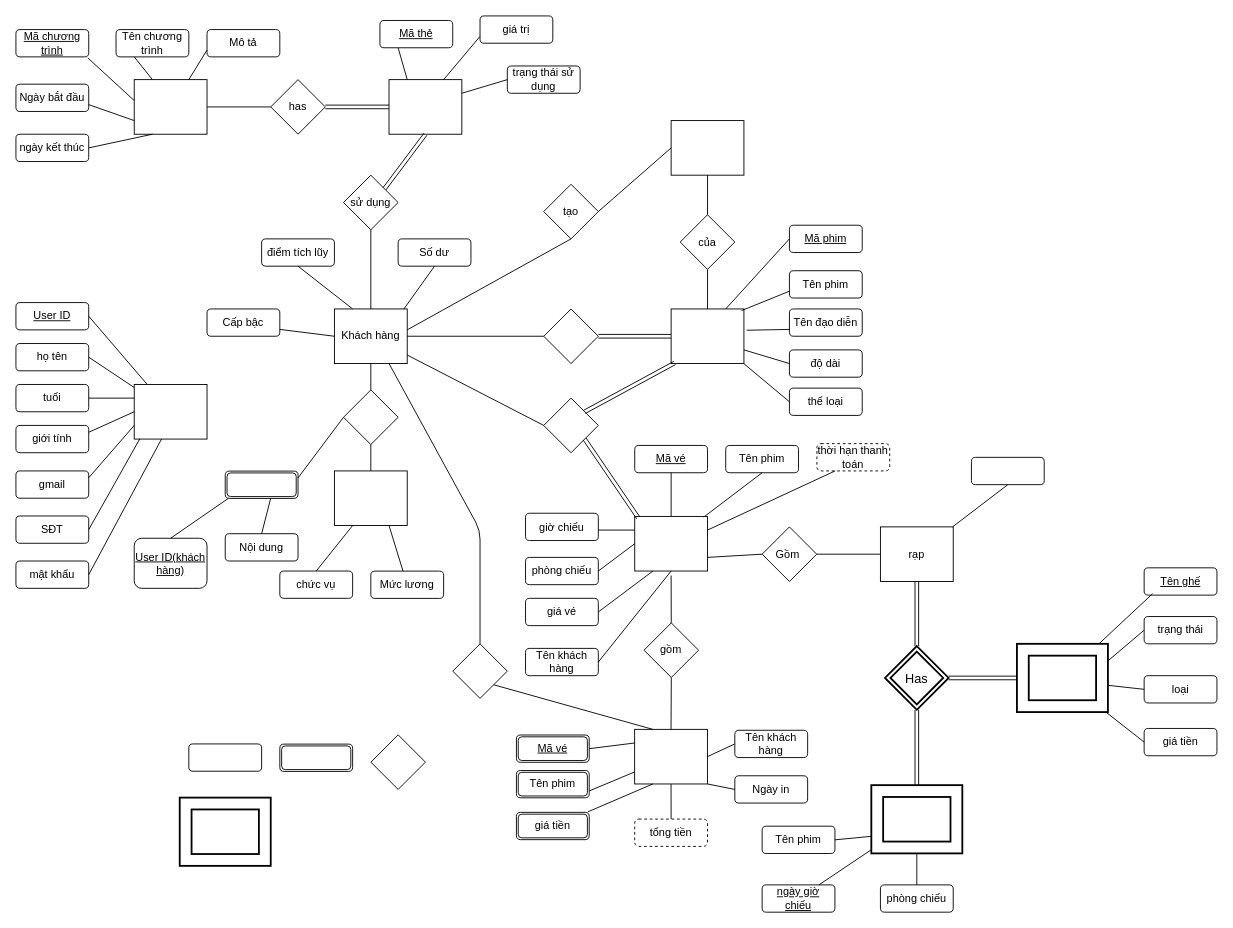
Some shapes in this 1233 by 928 pixel diagram are drawn without their labels. Each missing label, with the box of its shape:
chương trình khuyến mãi: (133, 79, 207, 134)
chọn: (543, 308, 598, 364)
coubon: (388, 79, 462, 134)
Ghế: (1016, 642, 1108, 713)
hóa đơn: (634, 728, 707, 784)
lưu trữ: (452, 643, 507, 698)
phim: (670, 308, 744, 364)
rating: (670, 120, 744, 175)
Request: (224, 470, 298, 498)
support: (334, 470, 407, 526)
Suất chiếu: (870, 784, 963, 854)
trợ giúp: (343, 389, 398, 445)
User: (133, 384, 207, 439)
vé xem phim: (634, 516, 708, 571)
Đặt: (543, 397, 598, 453)
Địa chỉ: (971, 456, 1044, 485)
